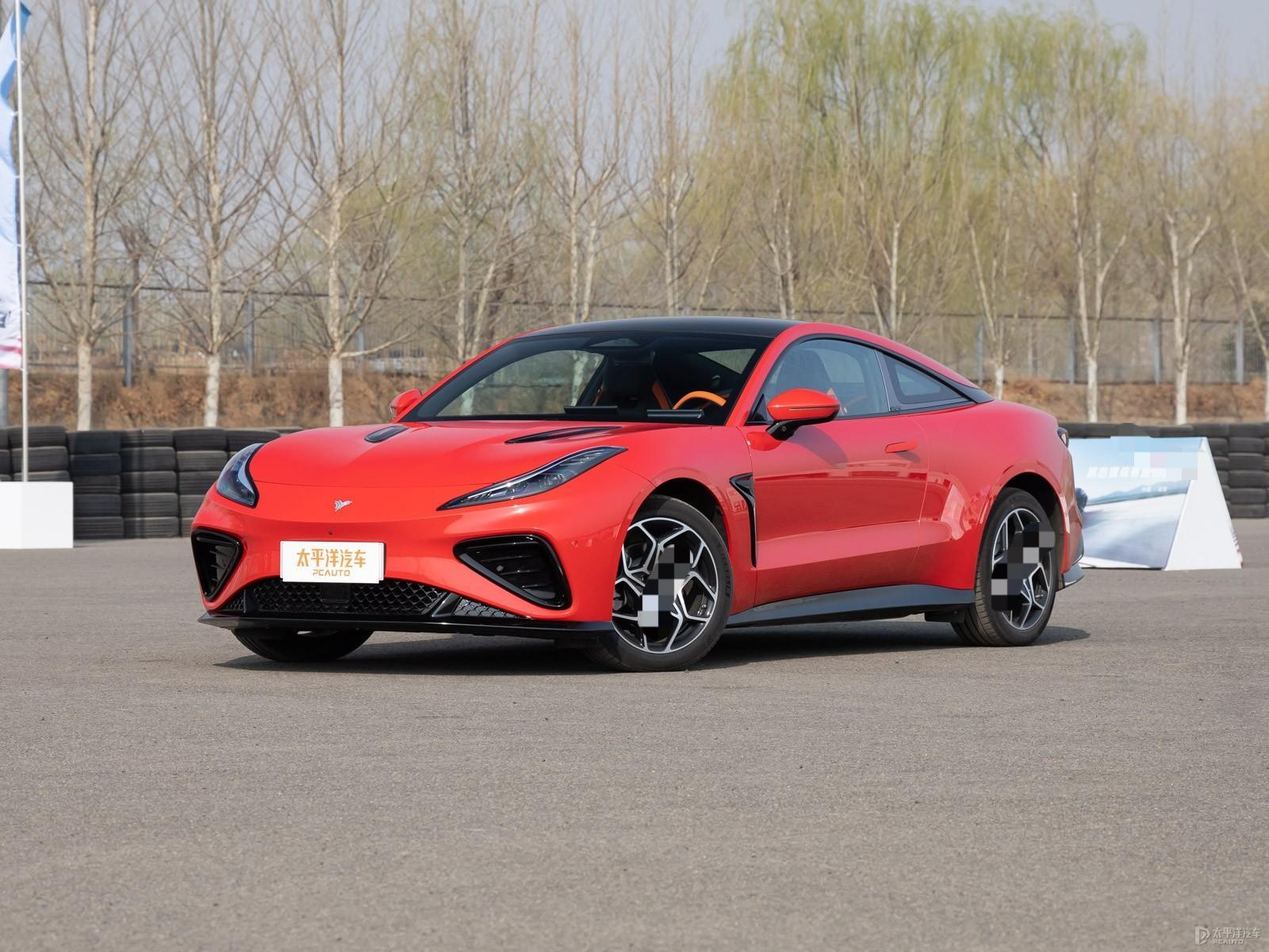NETA: (332, 498, 353, 514)
